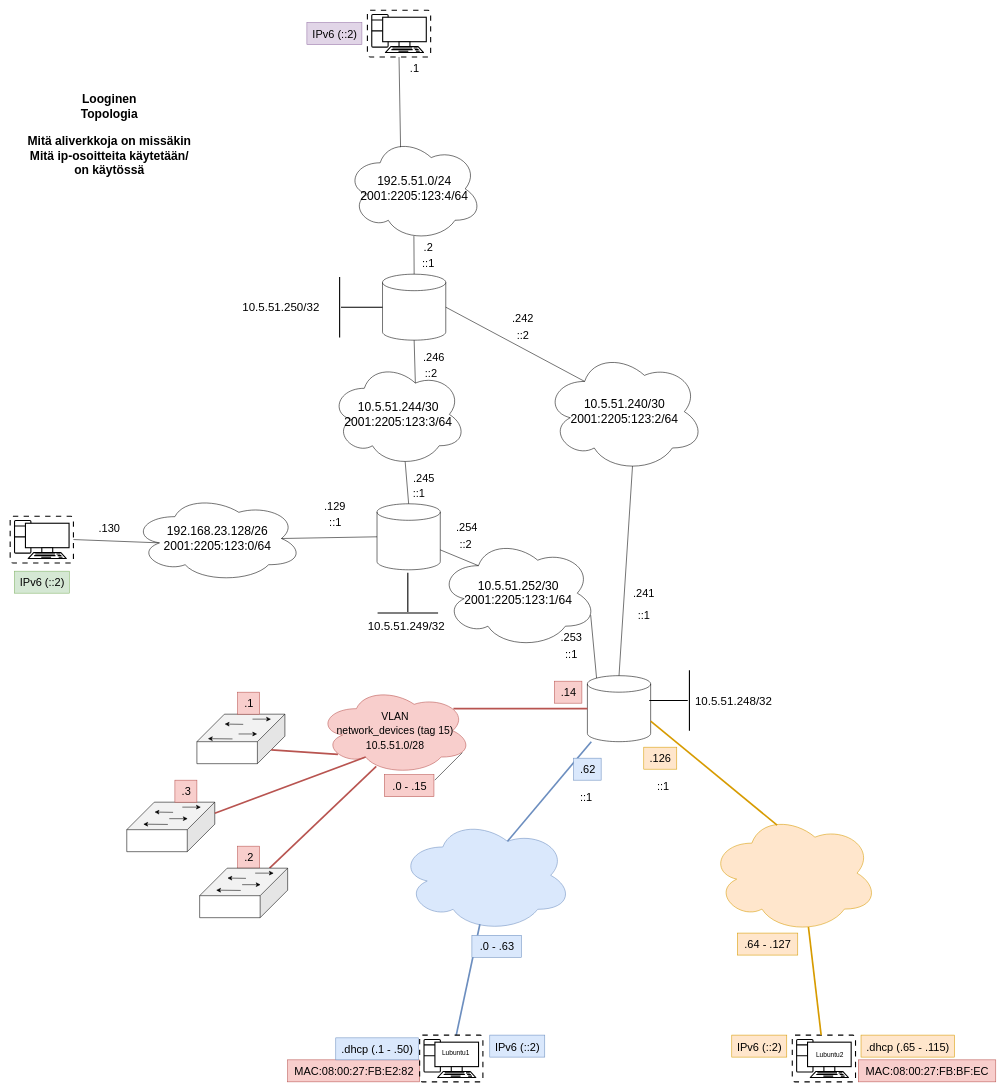
The diagram is 1005 pixels wide and 1092 high, and some of its shapes have lost their labels. Each missing label, with the centre of its shape:
"Lubuntu3" belongs at pixel 41 539.
"Lubuntu4" belongs at pixel 399 33.
"Switch 1" belongs at pixel 240 739.
"Switch 2" belongs at pixel 243 893.
"Switch 3" belongs at pixel 170 827.
"VLAN waitingstations (tag 10) 192.168.23.64/26 2001:2205:123:10/64" belongs at pixel 793 873.
"VLAN workstations (tag 5) 192.168.23.0/26 2001:2205:123:5/64" belongs at pixel 485 875.
"VYOS 1" belongs at pixel 619 708.
"VYOS 2" belongs at pixel 408 536.
"VYOS 3" belongs at pixel 414 307.
